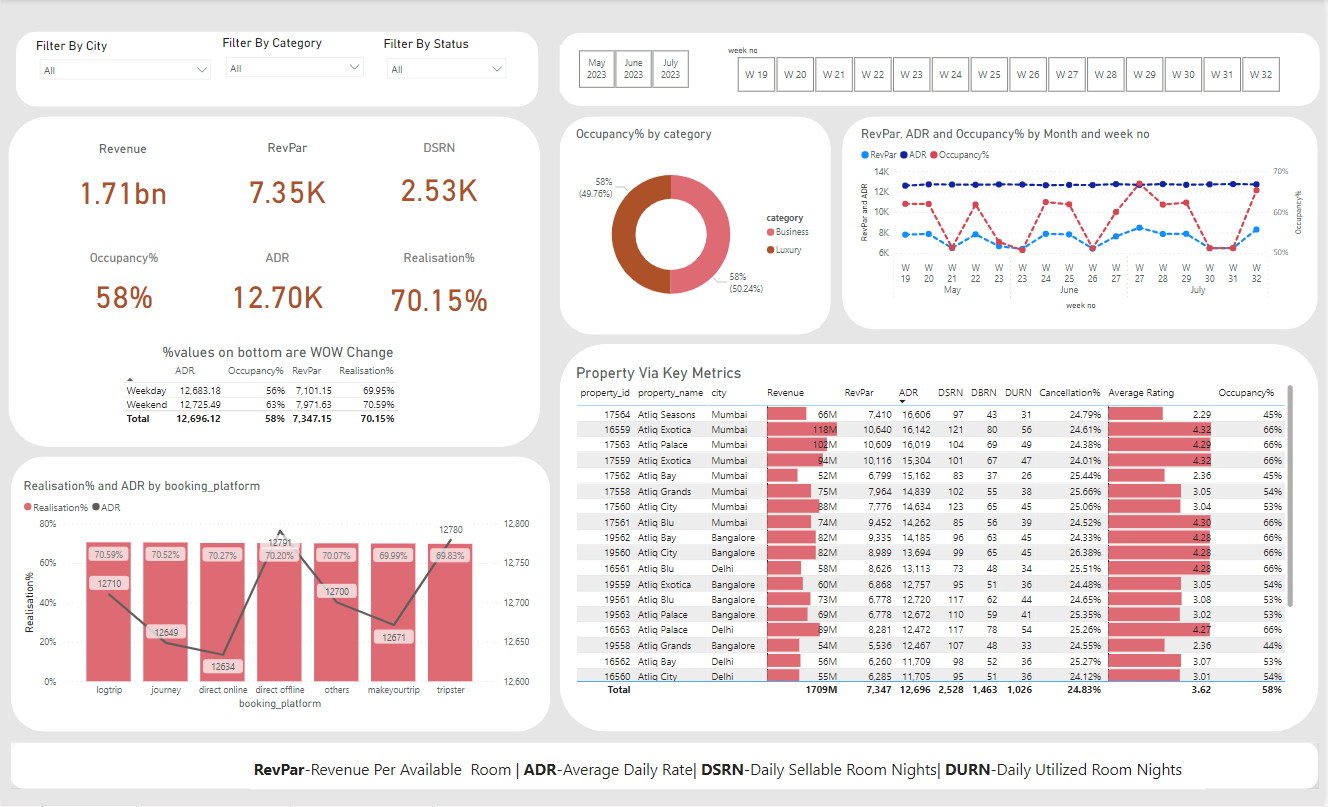

This screenshot's page, from the dashboard's own definition file:
{"tool":"powerbi","page":{"name":"Page 1","canvas":[1800,1100],"ordinal":0},"visuals":[{"type":"shape","box":[759.1,469.8,1031.8,527],"z":0},{"type":"shape","box":[12.9,622.8,733.3,374],"z":1000},{"type":"shape","box":[1144.2,160.3,646.7,289.3],"z":2000},{"type":"shape","box":[759.1,160.3,368.5,296.6],"z":3000},{"type":"shape","box":[9.6,160,723,449.2],"z":4000},{"type":"shape","box":[759.1,46.1,1033.7,99.5],"z":5000},{"type":"shape","box":[20.4,44.2,710.7,102],"z":6000},{"type":"tableEx","title":"Property Via Key Metrics","fields":{"Values":["dim_hotels.property_id","dim_hotels.property_name","dim_hotels.city","key_measures.Revenue","key_measures.RevPar","key_measures.ADR","key_measures.DSRN","key_measures.DBRN","key_measures.DURN","key_measures.Cancellation%","key_measures.Average Rating","key_measures.Occupancy%"]},"box":[777.6,495.6,985.8,457],"z":7000},{"type":"tableEx","fields":{"Values":["dim_date.week no"]},"box":[100,387.9,300,12.1],"z":8000},{"type":"slicer","title":"Filter By City","fields":{"Values":["dim_hotels.city"]},"box":[42.5,52.7,253.3,83.3],"z":9000},{"type":"slicer","title":"Filter By Room Type","fields":{"Values":["dim_date.mmm yy"]},"box":[760,62.9,198.9,64.6],"z":10000},{"type":"slicer","fields":{"Values":["dim_date.week no"]},"box":[975.9,57.8,787.2,74.8],"z":11000},{"type":"card","title":"Revenue","fields":{"Values":["key_measures.Revenue"]},"box":[61.4,193,208.8,112.3],"z":12000},{"type":"donutChart","fields":{"Y":["key_measures.Occupancy%"],"Category":["dim_hotels.category"]},"box":[777.6,173.2,337.2,274.5],"z":13000},{"type":"lineStackedColumnComboChart","fields":{"Category":["fact_bookings.booking_platform"],"Y":["key_measures.Realisation%"],"Y2":["key_measures.ADR"]},"box":[25.8,650.4,698.3,320.6],"z":14000},{"type":"lineChart","fields":{"Category":["dim_date.mmm yy.Variation.Date Hierarchy.Month","dim_date.week no"],"Y":["key_measures.RevPar","key_measures.ADR"],"Y2":["key_measures.Occupancy%"]},"box":[1164.5,173.2,611.7,254.3],"z":15000},{"type":"card","title":"DSRN","fields":{"Values":["key_measures.DSRN"]},"box":[494.7,192.1,202.3,108.8],"z":16000},{"type":"card","title":"Occupancy%","fields":{"Values":["key_measures.Occupancy%"]},"box":[82.9,341.3,167.7,100.3],"z":17000},{"type":"card","title":"ADR","fields":{"Values":["key_measures.ADR"]},"box":[290.7,341.7,170,100.3],"z":18000},{"type":"card","title":"Realisation%","fields":{"Values":["key_measures.Realisation%"]},"box":[494.7,341.7,202.3,107.1],"z":19000},{"type":"tableEx","title":"%values on bottom are WOW Change","fields":{"Values":["dim_date.day_type","key_measures.ADR","key_measures.Occupancy%","key_measures.RevPar","key_measures.Realisation%"]},"box":[159.8,469.2,433.5,129.2],"z":20000},{"type":"shape","box":[12.9,1011.6,1778.1,62.6],"z":21000},{"type":"textbox","box":[339,1026.3,1299,47.9],"z":22000},{"type":"slicer","title":"Filter By Category","fields":{"Values":["dim_hotels.category"]},"box":[295.8,49.3,207.4,83.3],"z":23000},{"type":"slicer","title":"Filter By Status","fields":{"Values":["fact_bookings.booking_status"]},"box":[515.1,51,181.9,83.3],"z":24000},{"type":"card","title":"RevPar","fields":{"Values":["key_measures.RevPar"]},"box":[295.8,192.1,187,112.2],"z":25000}]}

Visuals, with their boxes in screenshot pixels (x1, y1, x2, y2), scaled from the page's 1800x1100 canvas onto the 1328x807 screenshot:
shape: bbox=[560, 345, 1321, 731]
shape: bbox=[10, 457, 551, 731]
shape: bbox=[844, 118, 1321, 330]
shape: bbox=[560, 118, 832, 335]
shape: bbox=[7, 117, 540, 447]
shape: bbox=[560, 34, 1323, 107]
shape: bbox=[15, 32, 539, 107]
"Property Via Key Metrics" tableEx: bbox=[574, 364, 1301, 699]
tableEx - dim_date.week no: bbox=[74, 285, 295, 293]
"Filter By City" slicer: bbox=[31, 39, 218, 100]
"Filter By Room Type" slicer: bbox=[561, 46, 707, 94]
slicer - dim_date.week no: bbox=[720, 42, 1301, 97]
"Revenue" card: bbox=[45, 142, 199, 224]
donutChart - key_measures.Occupancy% x dim_hotels.category: bbox=[574, 127, 822, 328]
lineStackedColumnComboChart - fact_bookings.booking_platform x key_measures.Realisation%: bbox=[19, 477, 534, 712]
lineChart - dim_date.mmm yy.Variation.Date Hierarchy.Month x dim_date.week no: bbox=[859, 127, 1310, 314]
"DSRN" card: bbox=[365, 141, 514, 221]
"Occupancy%" card: bbox=[61, 250, 185, 324]
"ADR" card: bbox=[214, 251, 340, 324]
"Realisation%" card: bbox=[365, 251, 514, 329]
"%values on bottom are WOW Change" tableEx: bbox=[118, 344, 438, 439]
shape: bbox=[10, 742, 1321, 788]
textbox: bbox=[250, 753, 1208, 788]
"Filter By Category" slicer: bbox=[218, 36, 371, 97]
"Filter By Status" slicer: bbox=[380, 37, 514, 99]
"RevPar" card: bbox=[218, 141, 356, 223]
